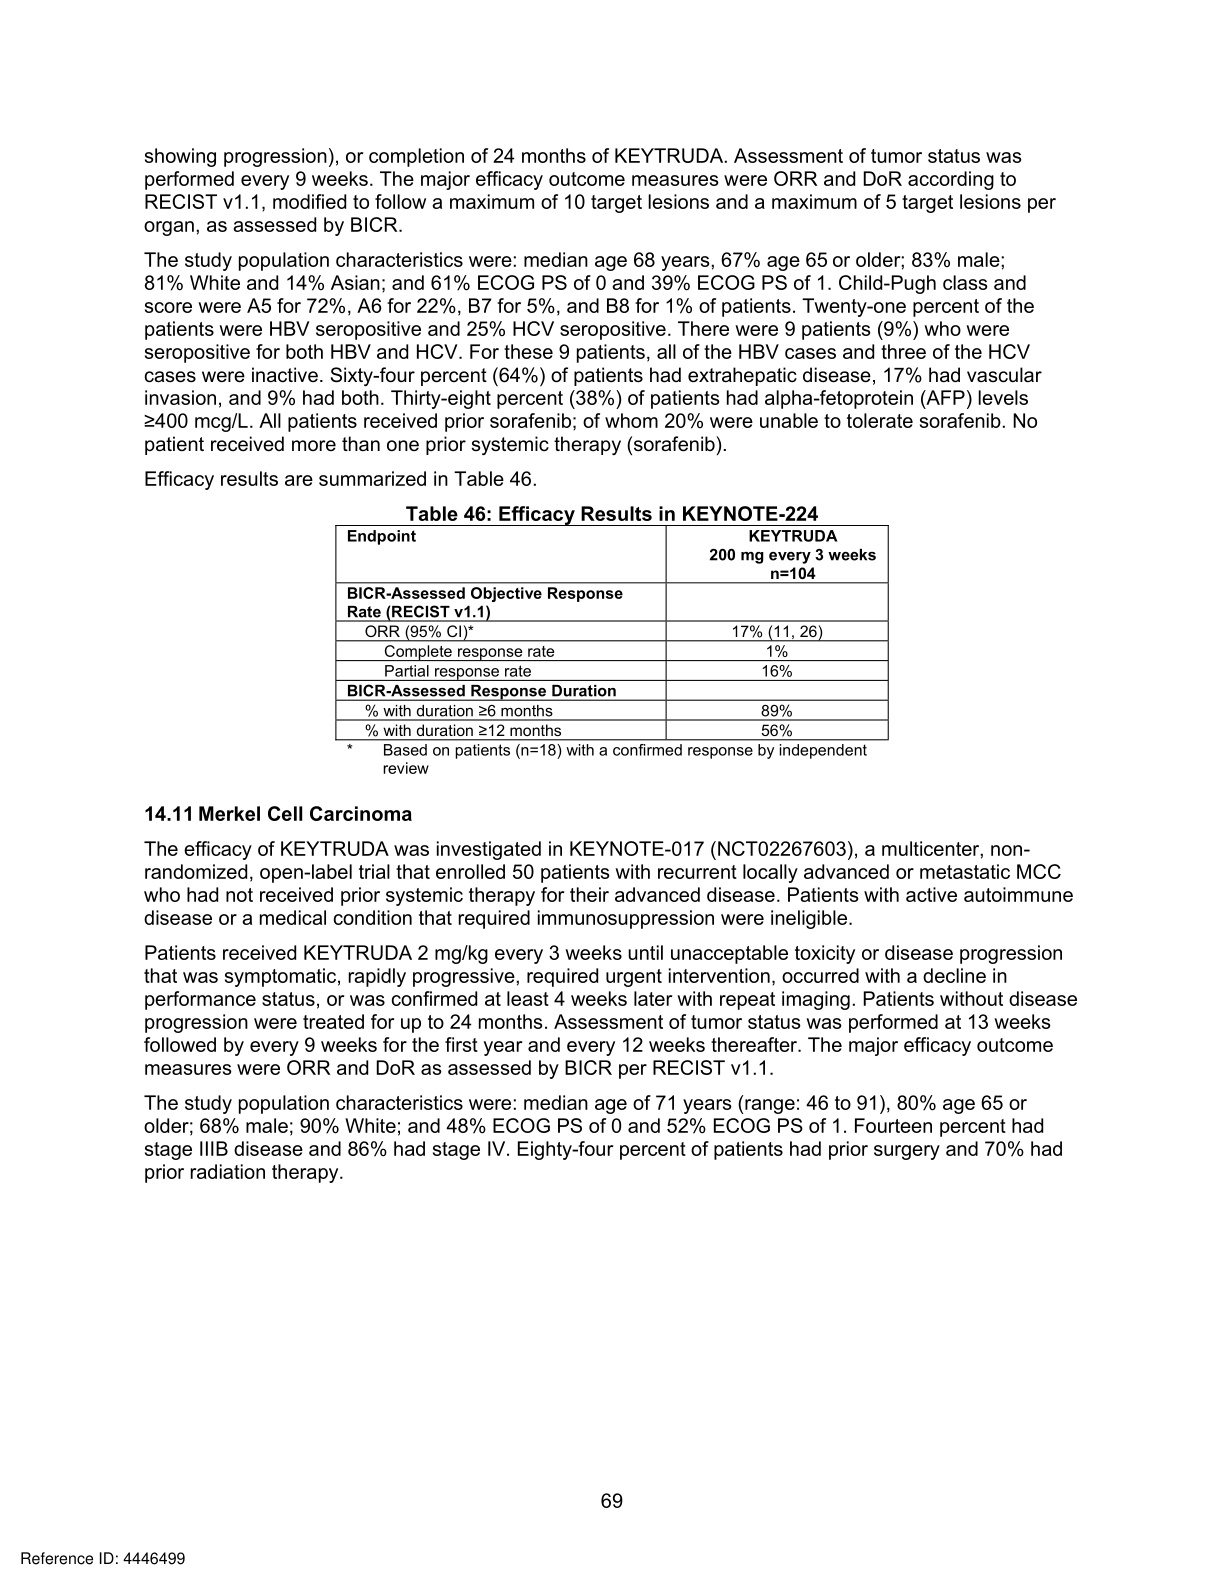full_lined: (336, 525, 888, 741)
